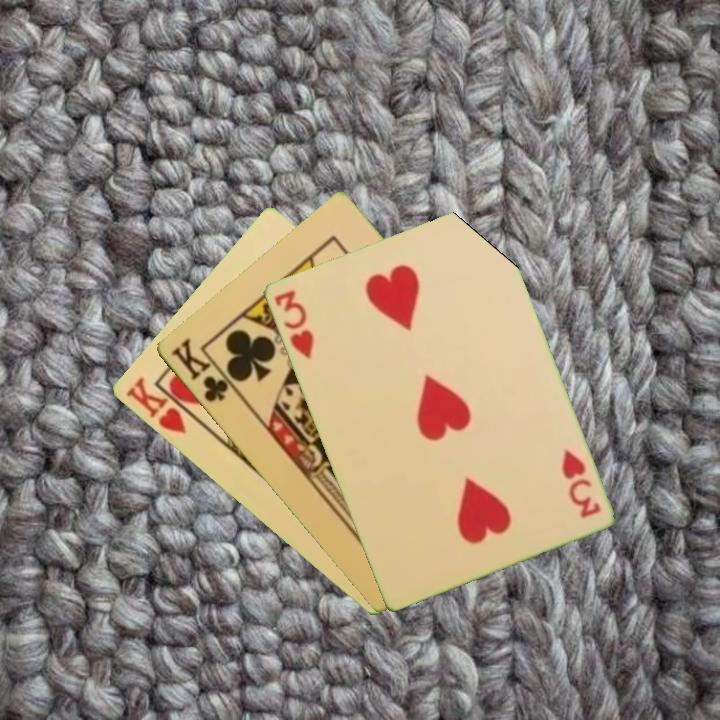3h: (270, 286, 316, 362), (557, 445, 603, 521)
Kc: (166, 334, 240, 405)
Kh: (121, 373, 202, 437)
